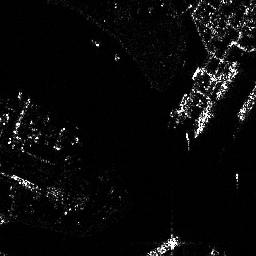ship: (195, 110, 212, 137)
